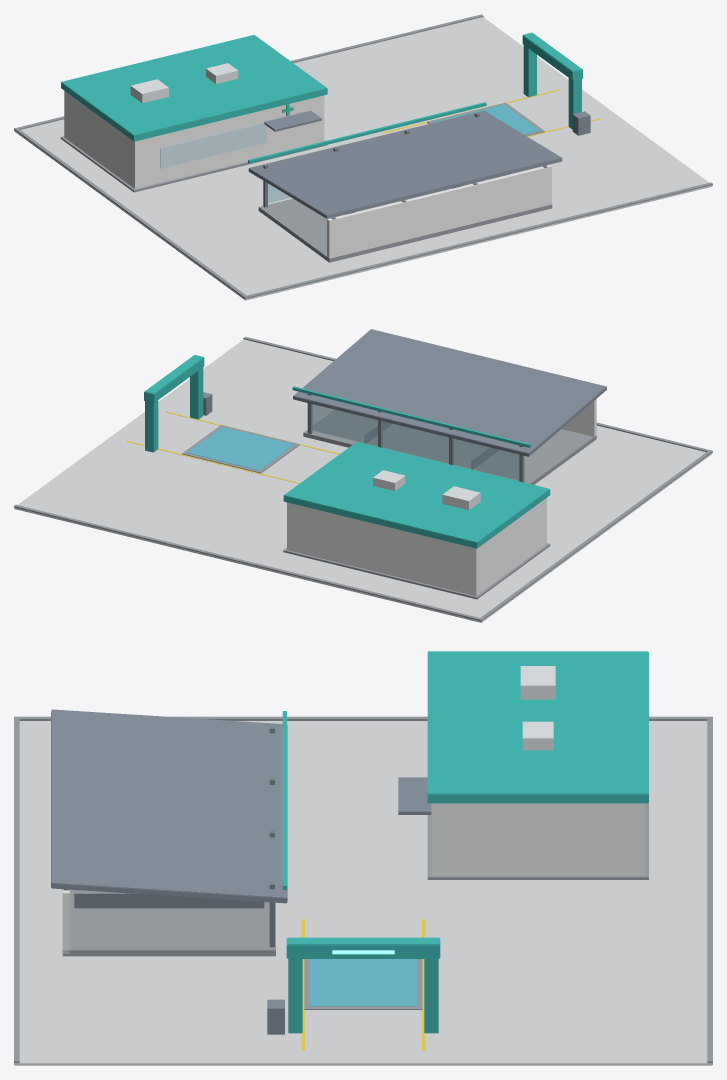
The model's file is h_quarantine_vet.glb.
3 renders of one model, top to bottom at view 1: azimuth 30°, elevation 25°; view 2: azimuth 150°, elevation 25°; view 3: azimuth 270°, elevation 25°, orthographic. The views are drawn at different scales.
Parts seen in each view (by area): view 1: H_Pad, H_Shed_Roof, H_Vet_Crown, H_Vet_Body, H_Shed_WallS, H_Shed_Base, H_Vet_WinS, H_Curb_S, H_Curb_W, H_Shed_Trim, H_Arch_Top, H_Pool_Rim (+8 smaller); view 2: H_Pad, H_Shed_Roof, H_Vet_Crown, H_Vet_Body, H_Shed_Base, H_Shed_GlassN, H_Pool_Rim, H_Pool_Water, H_Curb_N, H_Curb_W, H_Shed_Trim, H_Vet_Plinth (+7 smaller); view 3: H_Pad, H_Shed_Roof, H_Vet_Crown, H_Vet_Body, H_Shed_Base, H_Pool_Rim, H_Pool_Water, H_Arch_Top, H_Shed_Div_4.8, H_Curb_N, H_Curb_S, H_Vet_Plinth (+8 smaller).
Boxes of the visible parts, left/top/right/bottom form: H_Pad: left=14, top=17, right=712, bottom=300; H_Shed_Roof: left=248, top=110, right=562, bottom=218; H_Vet_Crown: left=61, top=35, right=327, bottom=141; H_Vet_Body: left=64, top=91, right=324, bottom=188; H_Shed_WallS: left=327, top=165, right=551, bottom=258; H_Shed_Base: left=258, top=174, right=552, bottom=262; H_Vet_WinS: left=160, top=123, right=266, bottom=168; H_Curb_S: left=243, top=182, right=712, bottom=298; H_Curb_W: left=16, top=129, right=246, bottom=297; H_Shed_Trim: left=248, top=102, right=486, bottom=163; H_Arch_Top: left=522, top=32, right=582, bottom=80; H_Pool_Rim: left=427, top=102, right=544, bottom=136; H_Pad: left=14, top=339, right=712, bottom=622; H_Shed_Roof: left=293, top=329, right=606, bottom=456; H_Vet_Crown: left=283, top=442, right=550, bottom=548; H_Vet_Body: left=287, top=498, right=546, bottom=595; H_Shed_Base: left=303, top=410, right=596, bottom=484; H_Shed_GlassN: left=311, top=404, right=519, bottom=481; H_Pool_Rim: left=182, top=425, right=299, bottom=473; H_Pool_Water: left=187, top=427, right=294, bottom=470; H_Curb_N: left=14, top=504, right=483, bottom=621; H_Curb_W: left=480, top=451, right=710, bottom=619; H_Shed_Trim: left=292, top=386, right=530, bottom=447; H_Vet_Plinth: left=283, top=543, right=550, bottom=599; H_Pad: left=14, top=721, right=712, bottom=1065; H_Shed_Roof: left=51, top=709, right=287, bottom=903; H_Vet_Crown: left=427, top=651, right=648, bottom=803; H_Vet_Body: left=431, top=803, right=644, bottom=875; H_Shed_Base: left=62, top=889, right=275, bottom=956; H_Pool_Rim: left=304, top=959, right=422, bottom=1009; H_Pool_Water: left=310, top=959, right=416, bottom=1006; H_Arch_Top: left=286, top=937, right=440, bottom=958; H_Shed_Div_4.8: left=74, top=893, right=264, bottom=908; H_Curb_N: left=707, top=716, right=712, bottom=1063; H_Curb_S: left=14, top=716, right=19, bottom=1063; H_Vet_Plinth: left=427, top=803, right=648, bottom=879.
Size of the model in its own units: 42 by 5.85 by 36.
